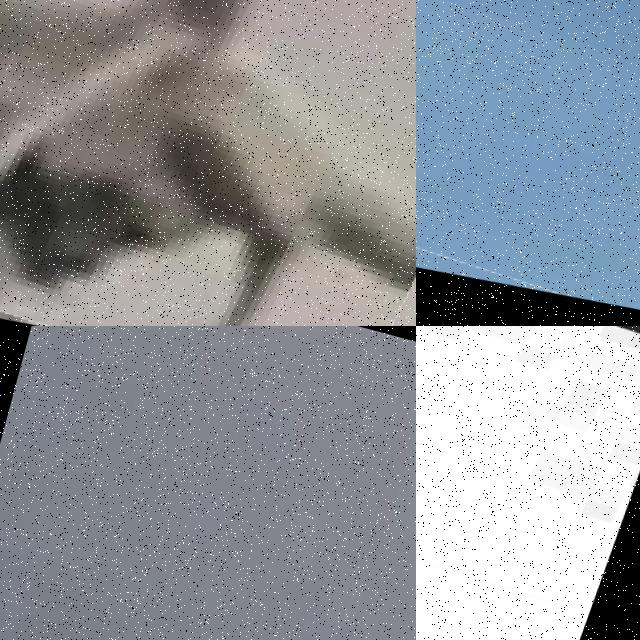0: (0, 0, 416, 326), (416, 0, 640, 326)
drone: (416, 326, 640, 640)
